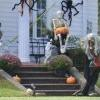stairs: (6, 68, 80, 96)
